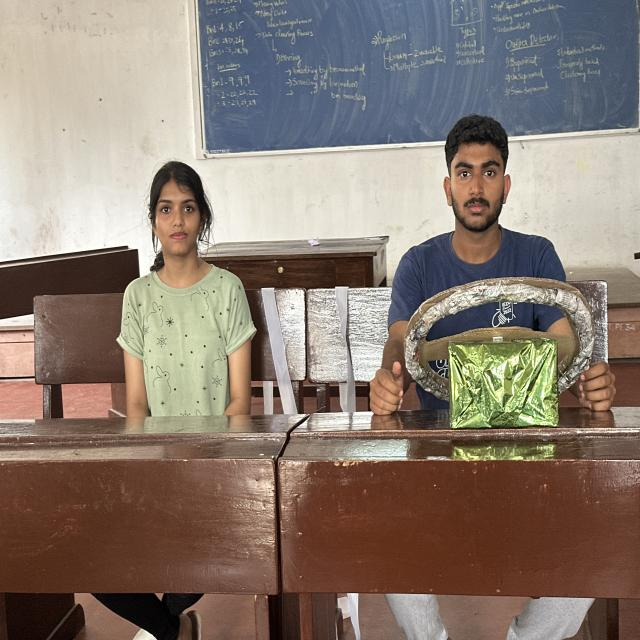no-seatbelt: (387, 233, 610, 411), (114, 269, 278, 430)
